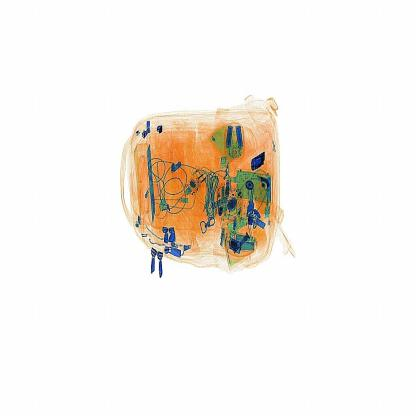knife: (249, 151, 265, 174)
